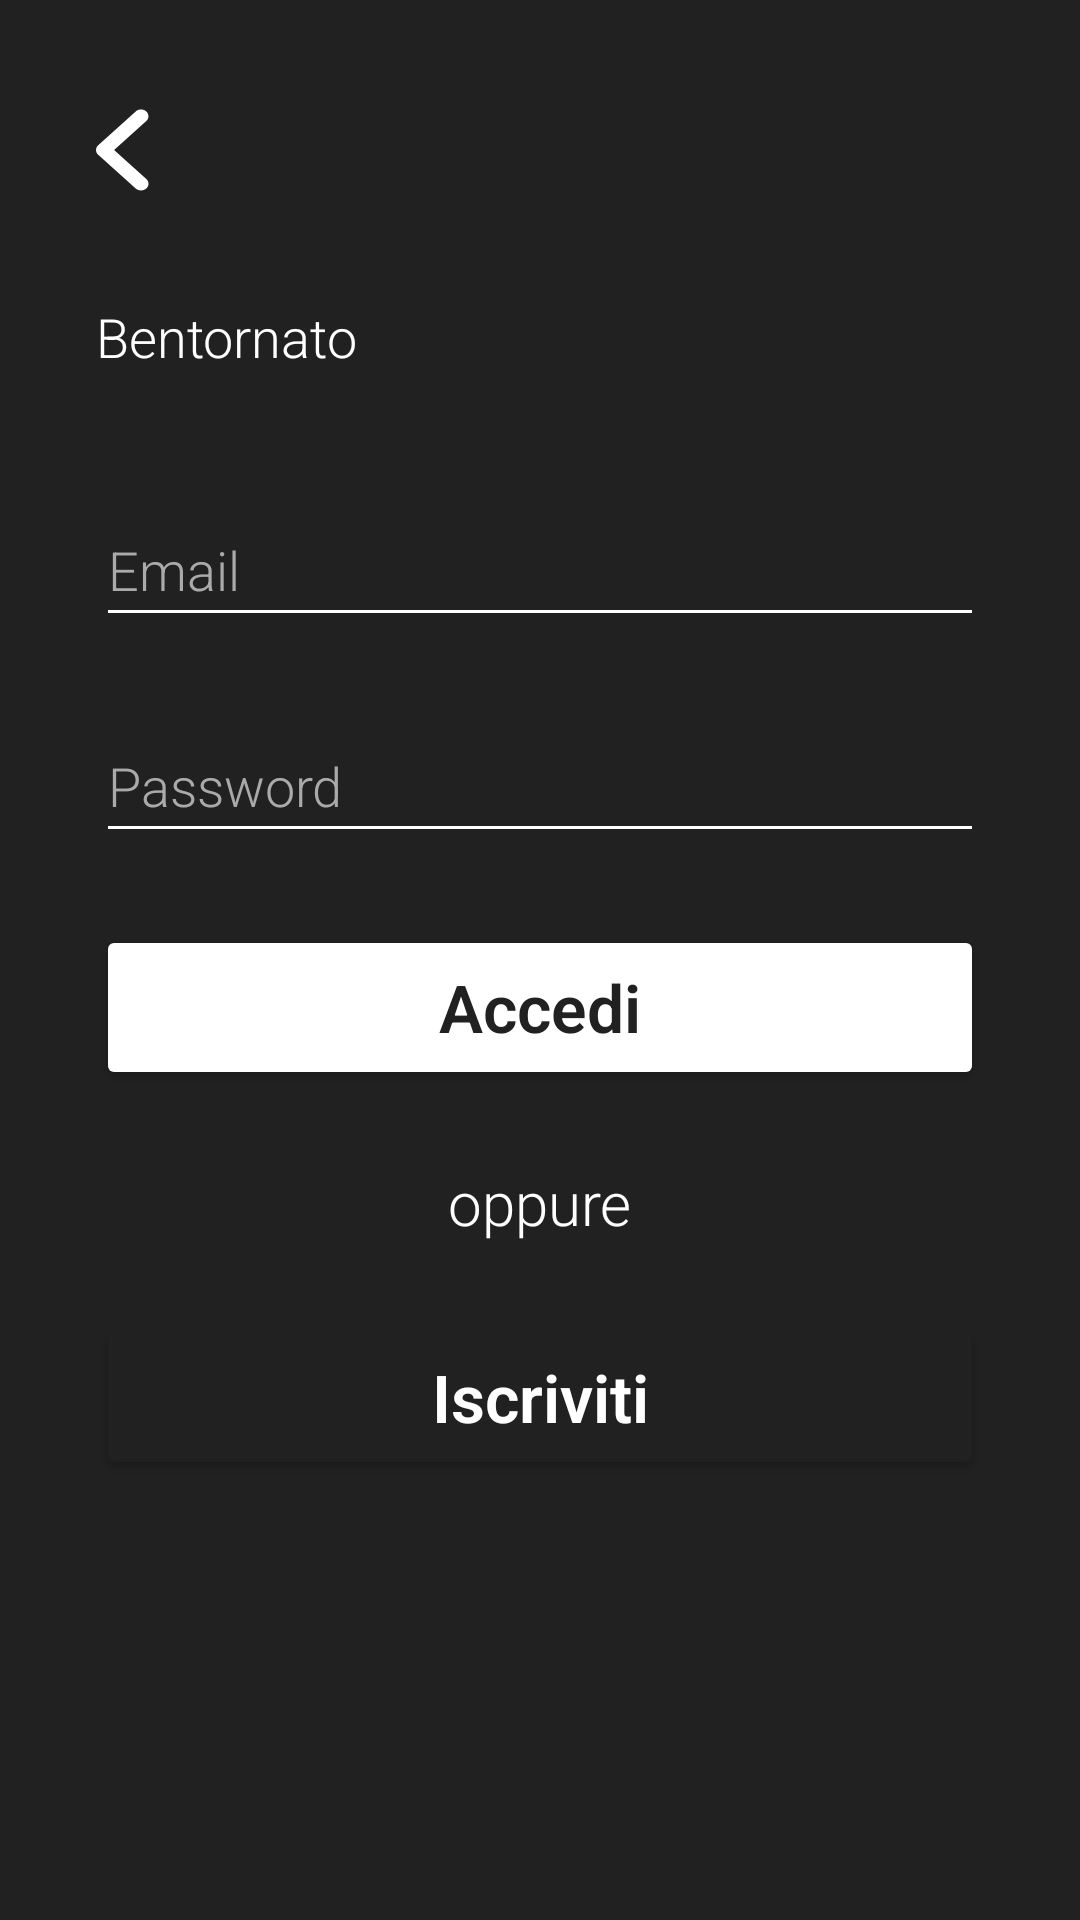

Icon click points for this 1080×1920 phone screenshot, format (x,y):
angle left: (122,150)
